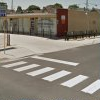crosswalk: (0, 61, 100, 93)
